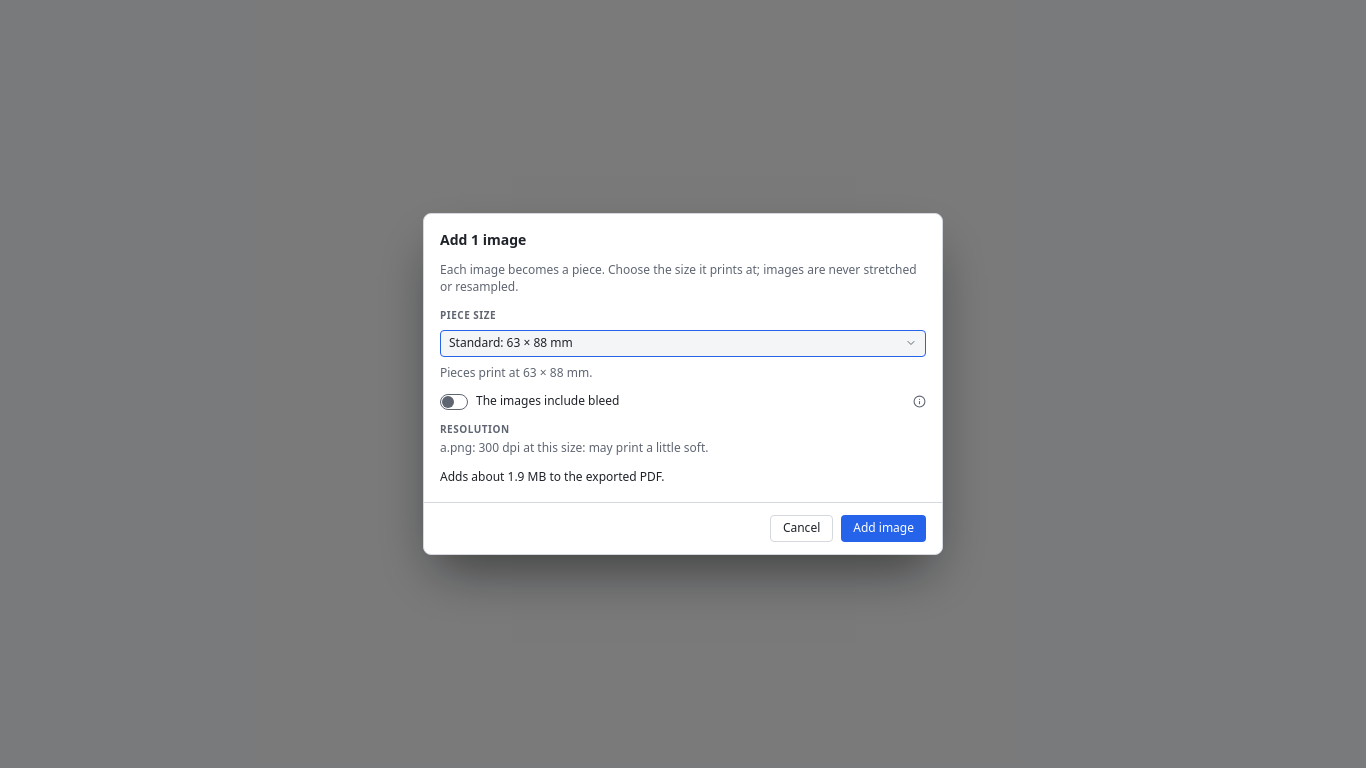
it: the size dialog › takes the bleed out of the size the image says it is
This screenshot has width=1366, height=768.
Click the dropdown named "Piece size" at (511, 342), box [440,330,926,357]
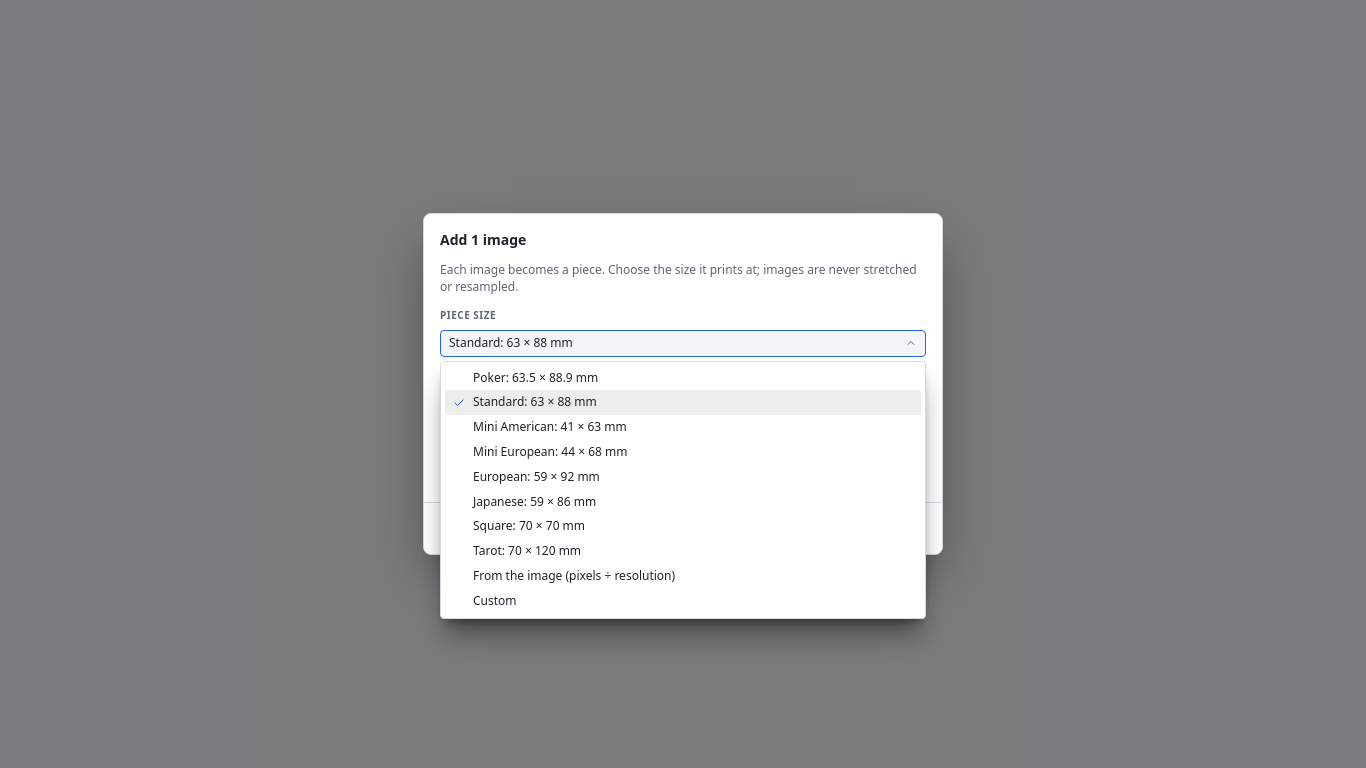
Click the option "From the image (pixels ÷ resolution)" at (574, 576), box [473,567,675,584]
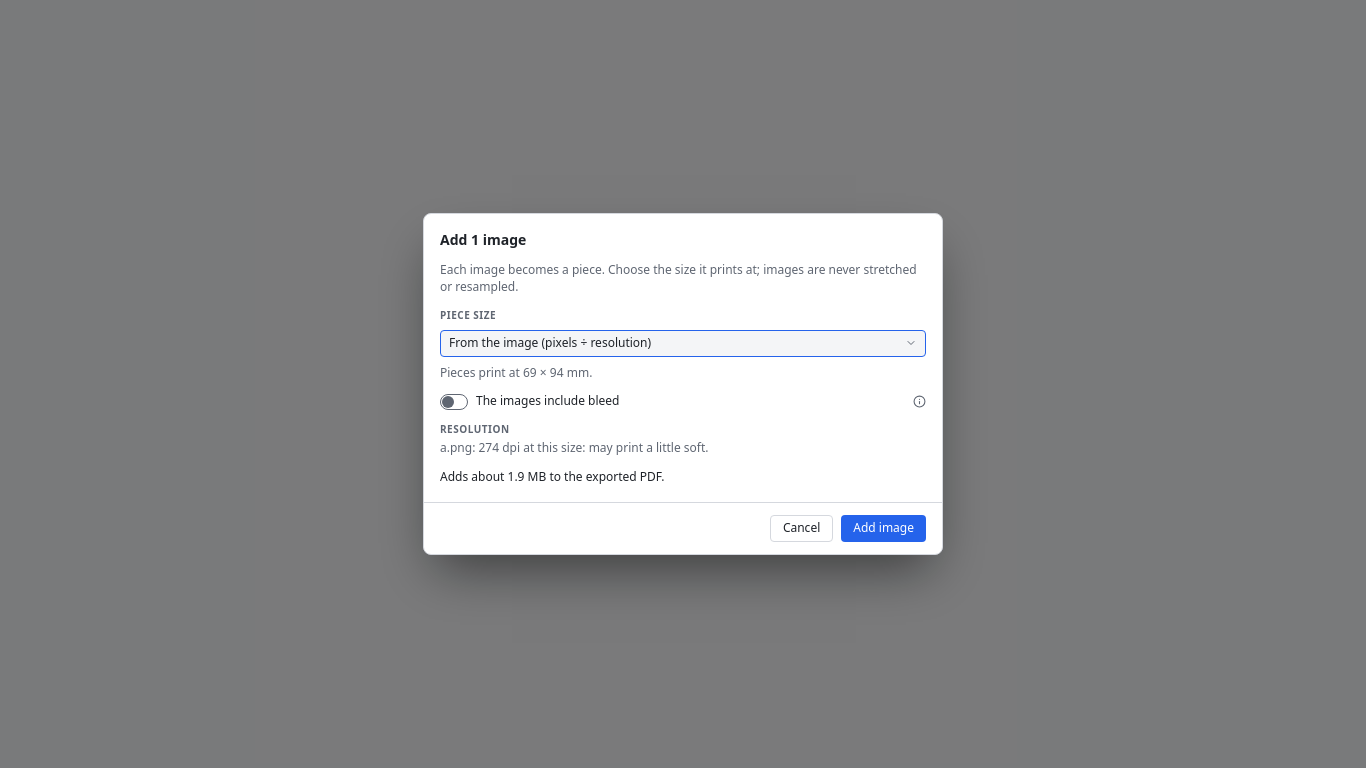
Click the switch named "The images include bleed" at (454, 402), box [440,394,468,410]
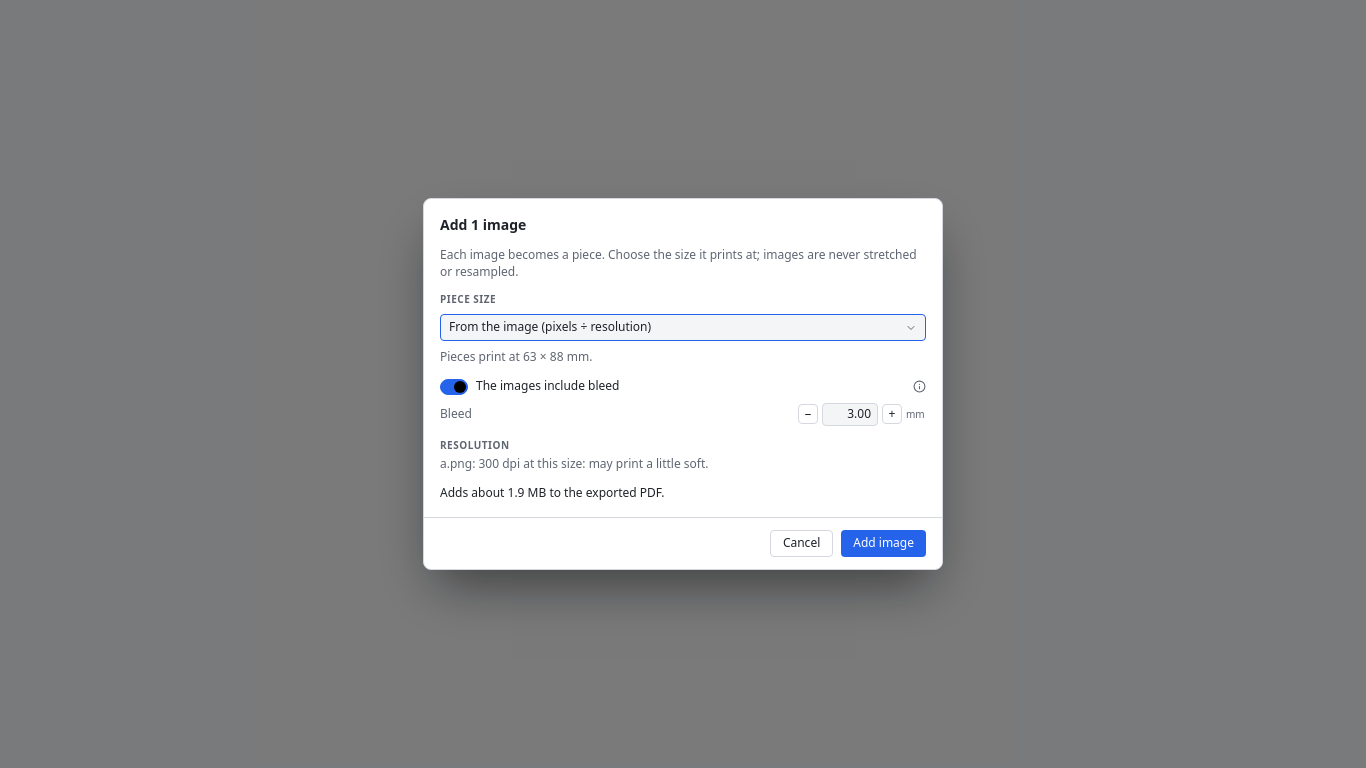
Now the text with test id "image-piece-size" reads "Pieces print at 63 × 88 mm.", box [440,348,592,365]
